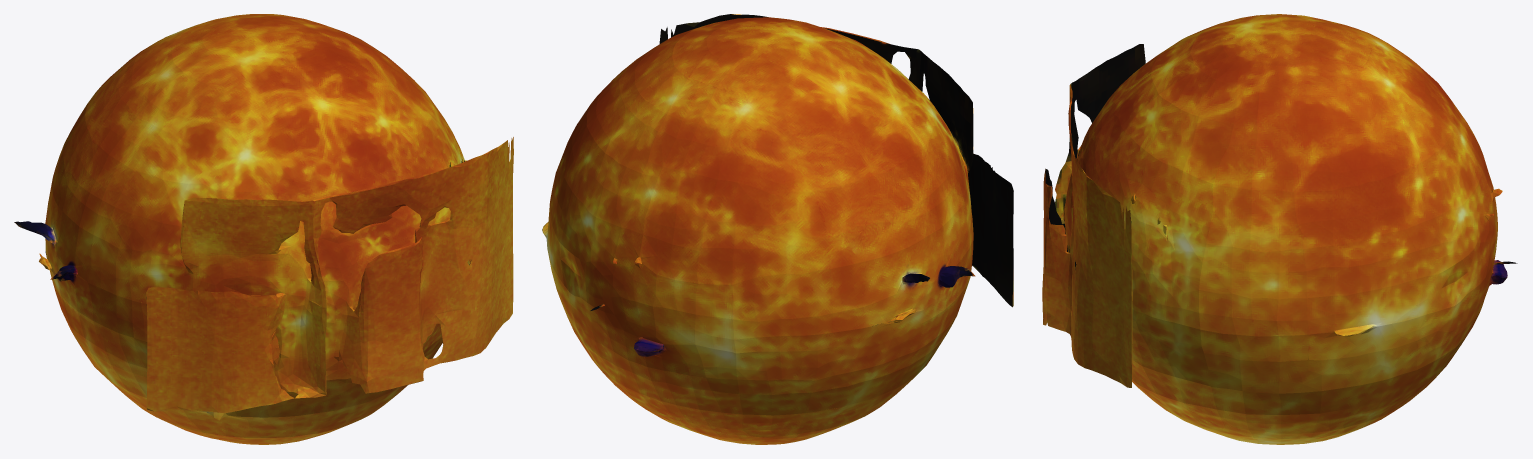
The model's file is star.glb.
The picture shows the model from 3 angles, left to right: view 1: azimuth 30°, elevation 25°; view 2: azimuth 150°, elevation 25°; view 3: azimuth 270°, elevation 25°; orthographic projection.
Visible parts, largest first — view 1: world; view 2: world; view 3: world.
Boxes of the visible parts, box(x1,y1,x2,y2) form: world: box(14, 14, 513, 444); world: box(542, 14, 1013, 444); world: box(1042, 14, 1517, 444).
Size of the model in its own units: 0.5956 by 0.5522 by 0.61.
1 material, 1 textured.
